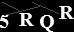5: (1, 14, 9, 29)
Q: (38, 14, 56, 32)
R: (17, 12, 34, 27), (58, 5, 74, 20)
